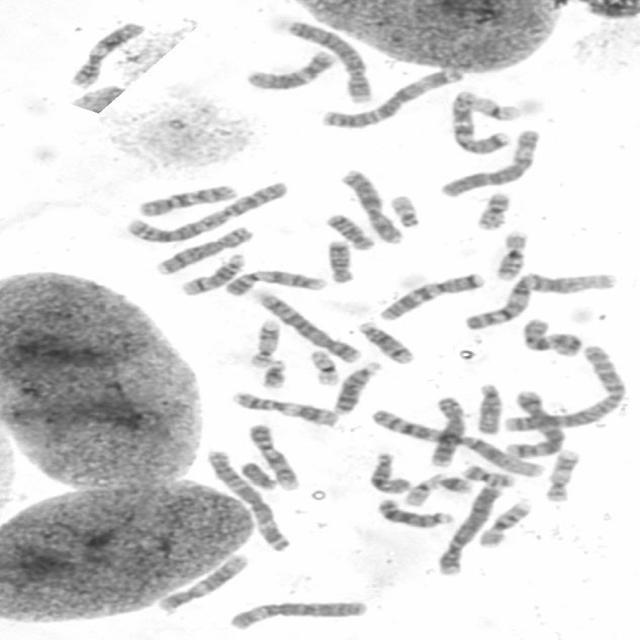A1: (369, 409, 548, 478), (462, 268, 621, 330)
A2: (501, 342, 628, 437), (125, 180, 288, 244)
A3: (203, 448, 293, 554), (318, 68, 463, 130)
B4: (284, 19, 377, 105), (432, 485, 504, 576)
B5: (255, 291, 360, 362), (505, 389, 566, 460)
C10: (137, 185, 240, 216), (519, 316, 585, 359)
C11: (70, 21, 148, 89), (232, 390, 342, 429)
C12: (152, 552, 248, 616), (242, 47, 338, 93)
C6: (436, 128, 542, 198), (230, 598, 367, 631)
C7: (378, 270, 489, 322), (445, 90, 511, 157)
C8: (156, 227, 257, 274), (428, 394, 467, 468)
C9: (247, 425, 300, 491), (226, 268, 330, 298)
D13: (333, 359, 386, 415), (376, 497, 456, 530)
D14: (175, 253, 246, 295), (358, 319, 416, 365)
D15: (368, 452, 415, 494), (473, 382, 505, 436)
E16: (476, 501, 537, 548), (492, 230, 532, 282)
E17: (543, 448, 581, 506), (247, 317, 281, 369)
E18: (325, 213, 375, 249), (327, 239, 356, 284)
F19: (466, 93, 526, 121), (306, 348, 342, 387)
F20: (459, 462, 518, 488), (473, 192, 510, 230)
G21: (260, 358, 292, 390), (434, 475, 479, 495)
G22: (388, 194, 421, 228), (400, 477, 437, 507)
X: (340, 169, 406, 244)
Y: (241, 461, 278, 491)
